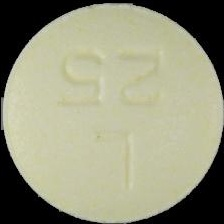51079-983: (0, 0, 224, 224)
